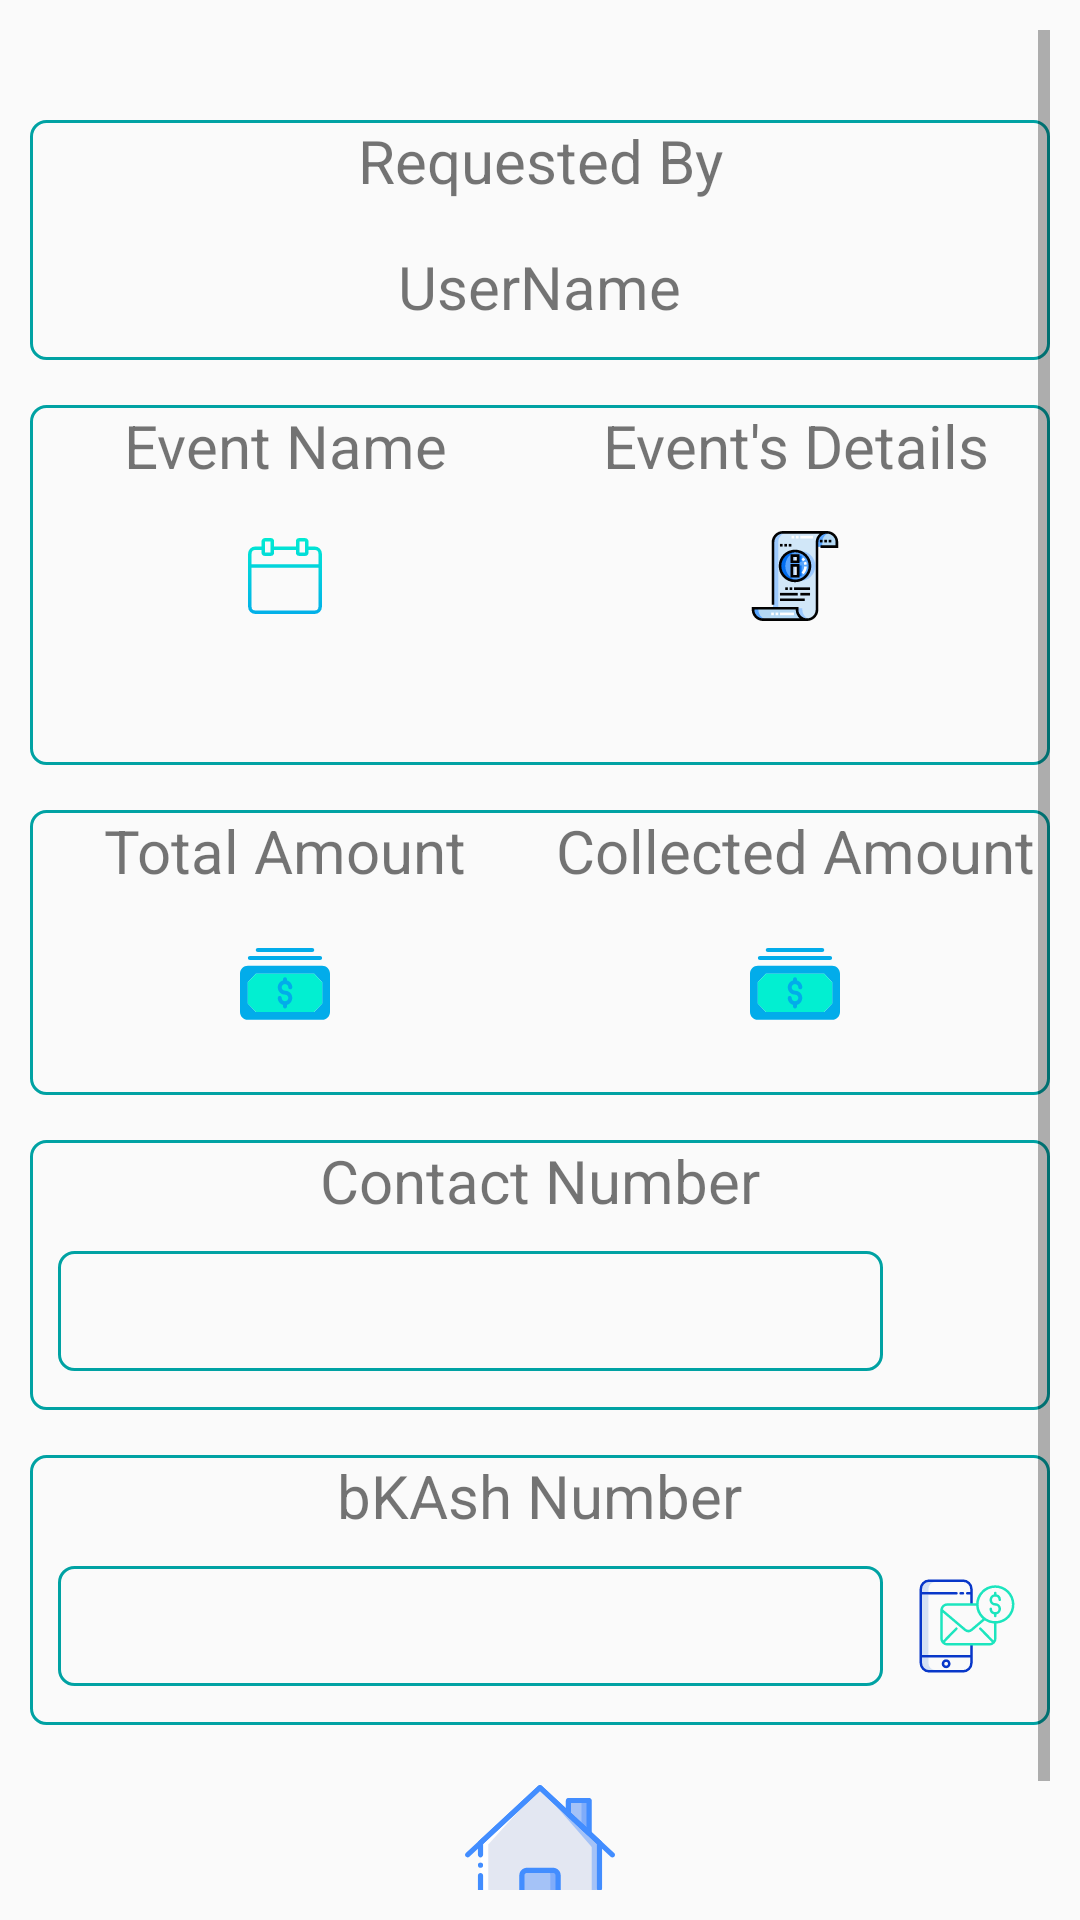

Icons on this 1080 x 1920 Android screen, each with its box as (x1, y1, x2, y2):
house: (465, 1785, 615, 1890)
receive: (919, 1579, 1015, 1673)
